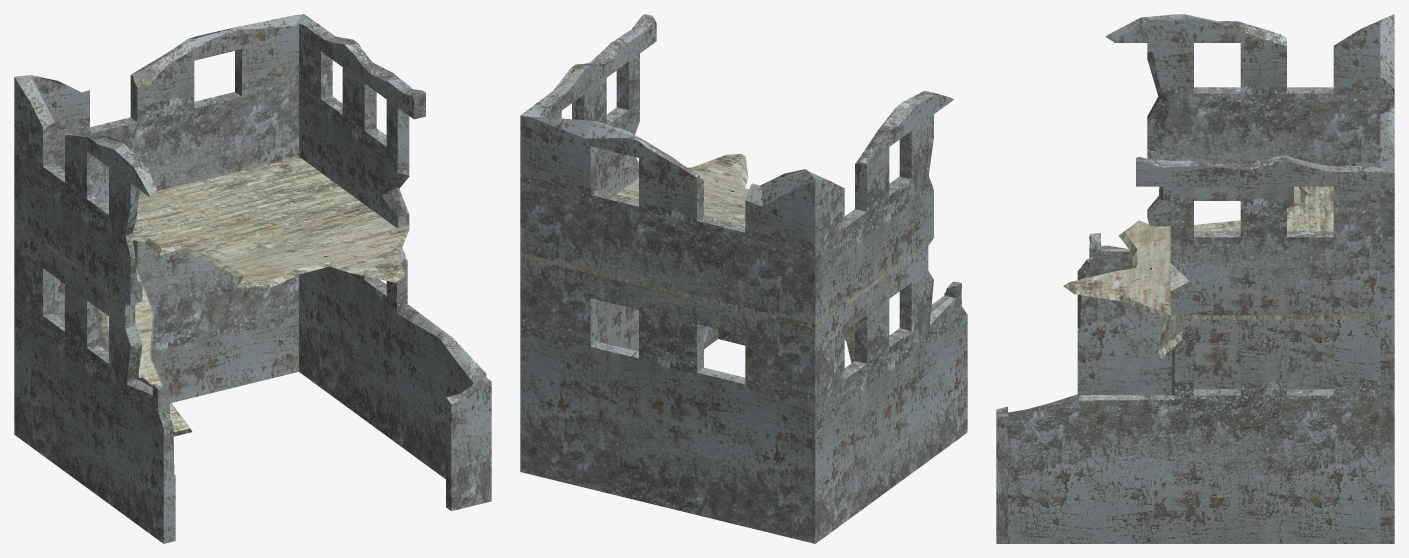
Rendered from nha3 1.fbx.
3 views of the same model, side by side, from view 1: azimuth 30°, elevation 25°; view 2: azimuth 150°, elevation 25°; view 3: azimuth 270°, elevation 25° (orthographic). The views are drawn at different scales.
Parts seen in each view (by area): view 1: Part1.004, Part1.006, Part1.001, Part1, Part1.002, Part1.003, Part1.005, Part1.007; view 2: Part1.002, Part1.001, Part1.004, Part1.003, Part1.005, Part1, Part1.006; view 3: Part1.006, Part1.005, Part1.003, Part1.004, Part1, Part1.001, Part1.002, Part1.007.
Part boxes in pixels (left/top/right/bottom): Part1.004: left=21, top=228, right=175, bottom=543; Part1.006: left=299, top=243, right=491, bottom=510; Part1.001: left=14, top=14, right=309, bottom=223; Part1: left=14, top=156, right=409, bottom=304; Part1.002: left=14, top=223, right=298, bottom=439; Part1.003: left=21, top=80, right=157, bottom=304; Part1.005: left=299, top=18, right=425, bottom=228; Part1.007: left=101, top=266, right=192, bottom=436; Part1.002: left=520, top=257, right=822, bottom=543; Part1.001: left=520, top=110, right=822, bottom=324; Part1.004: left=822, top=246, right=967, bottom=538; Part1.003: left=813, top=91, right=953, bottom=319; Part1.005: left=528, top=14, right=656, bottom=194; Part1: left=520, top=154, right=933, bottom=328; Part1.006: left=597, top=300, right=745, bottom=351; Part1.006: left=996, top=319, right=1380, bottom=543; Part1.005: left=1136, top=155, right=1380, bottom=315; Part1.003: left=1105, top=14, right=1380, bottom=167; Part1.004: left=1077, top=186, right=1333, bottom=395; Part1: left=1063, top=186, right=1394, bottom=319; Part1.001: left=1380, top=14, right=1394, bottom=315; Part1.002: left=1380, top=319, right=1394, bottom=543; Part1.007: left=1158, top=186, right=1300, bottom=358.
Bounding box in the file's own units: 458 × 544 × 514.
2 materials, 2 textured.
